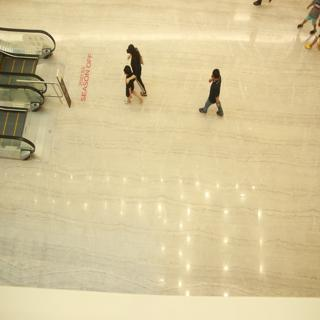person: (198, 61, 229, 128), (113, 60, 151, 108), (122, 41, 152, 74)
